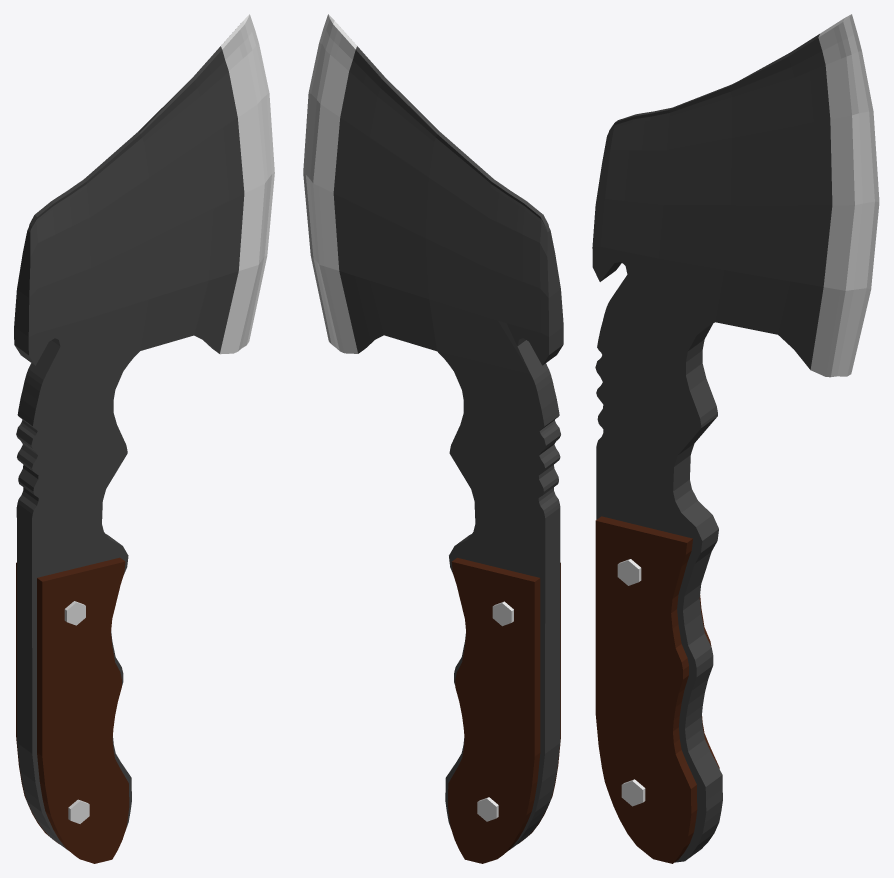
Rendered from Axe.fbx.
3 renders of one model, left to right at view 1: azimuth 30°, elevation 25°; view 2: azimuth 150°, elevation 25°; view 3: azimuth 330°, elevation 25°, orthographic. The views are drawn at different scales.
Visible parts, largest first — view 1: Axe; view 2: Axe; view 3: Axe.
Boxes of the visible parts, x1,y1,x2,y2 form: Axe: (14, 14, 274, 863); Axe: (303, 14, 563, 863); Axe: (592, 14, 879, 863).
Size of the model in its own units: 41.07 by 8.61 by 124.
